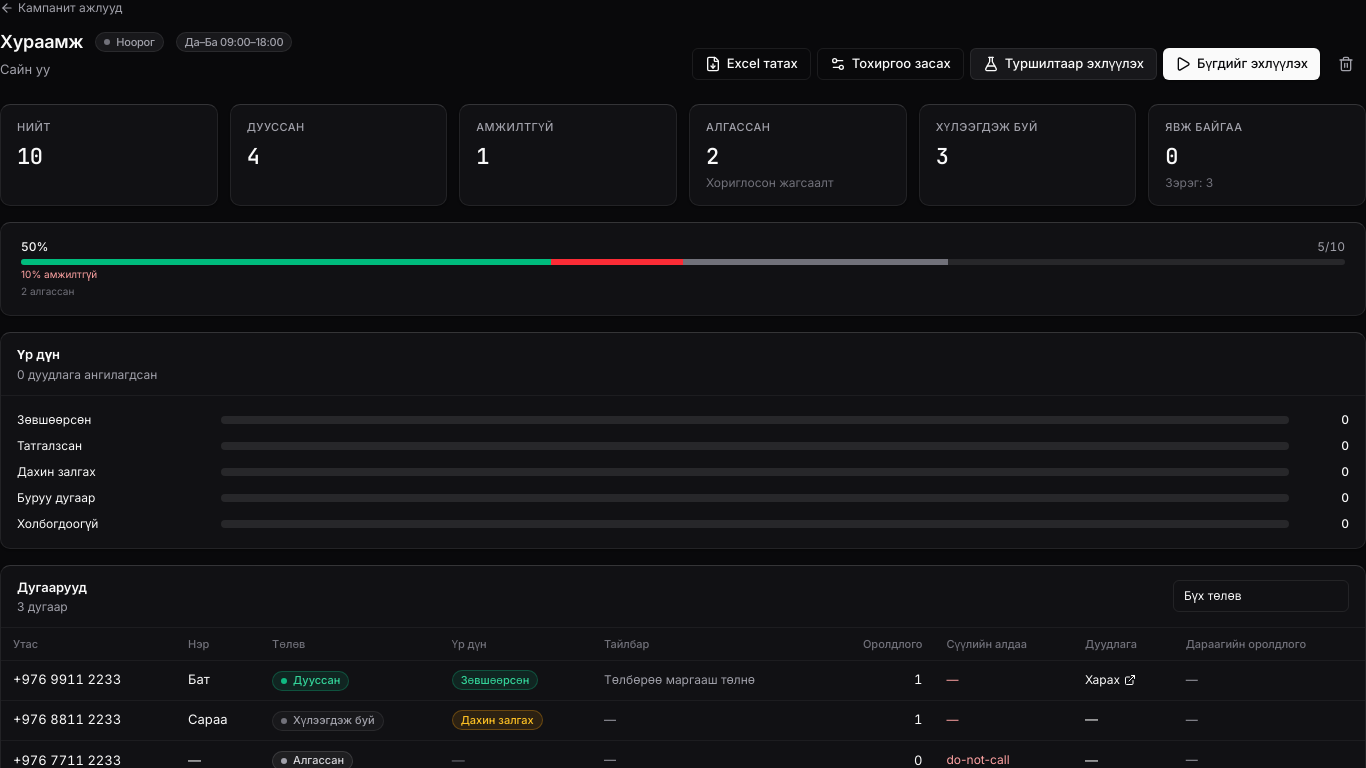
it: CampaignDetailPage v2 › dry-run dialog posts {dryRunLimit: N} to start
Click the button "Туршилтаар эхлүүлэх".
click(1063, 64)  # box [970,48,1157,80]
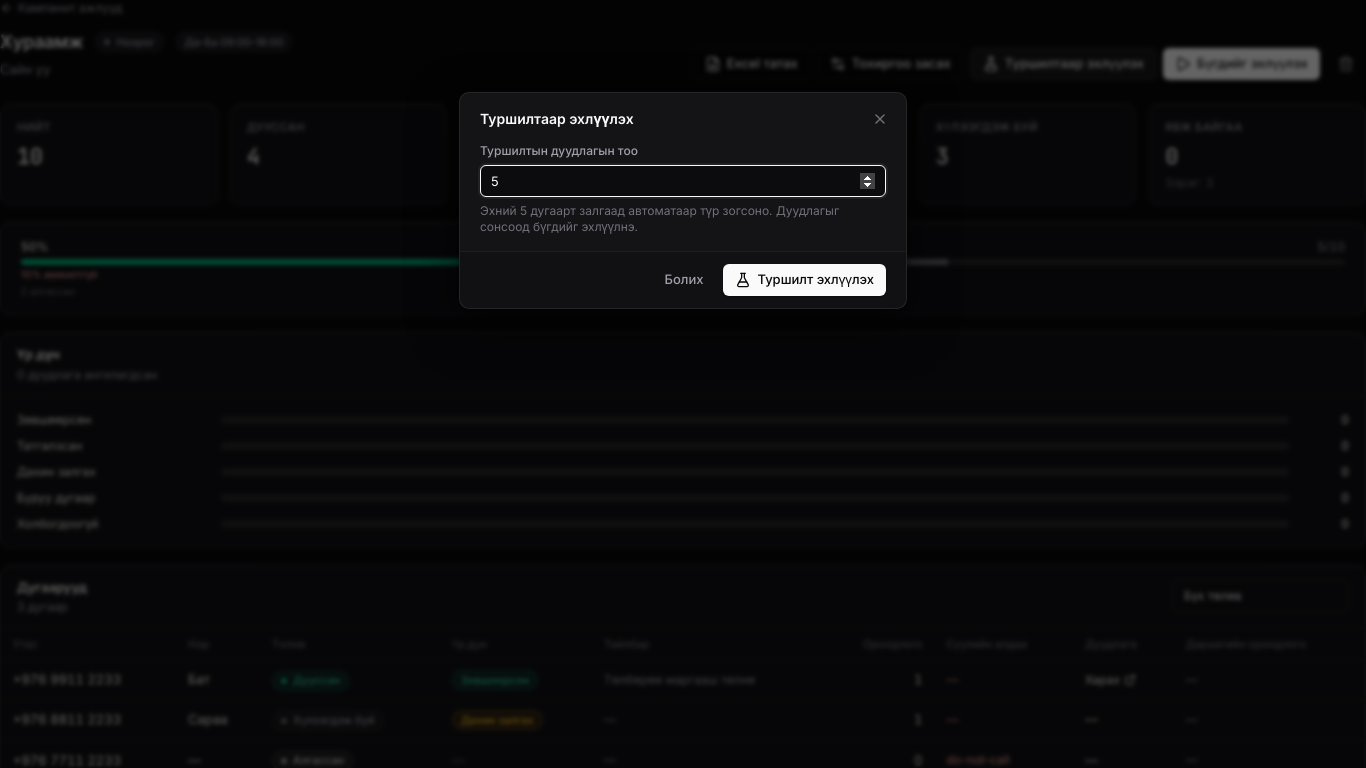
Replace the text in the number field with "7" at (683, 181), box [480,165,886,197]
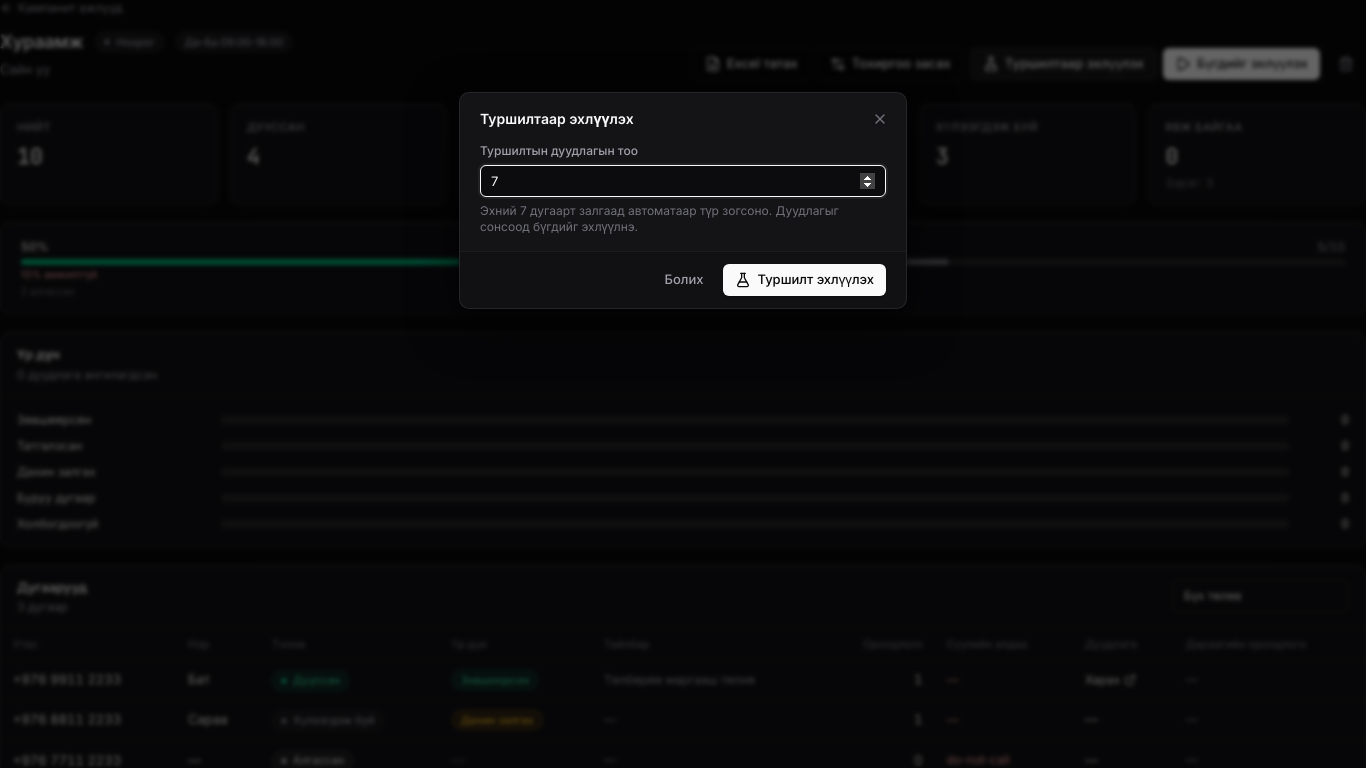
Expected: the text "Эхний 7 дугаарт залгаад автоматаар түр зогсоно" is shown, [480,203,839,234]
Click the button "Туршилт эхлүүлэх".
click(805, 280)  # box [724,264,886,296]
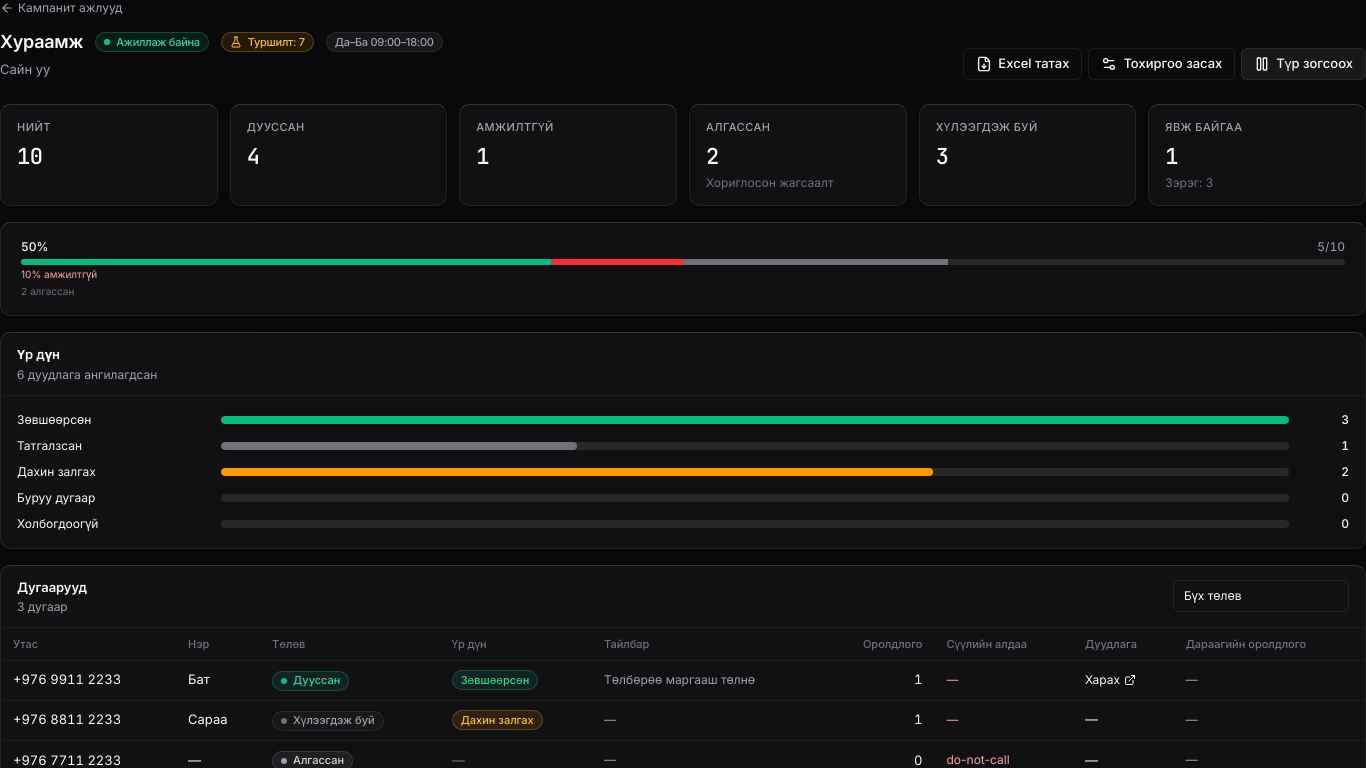
Expected: the button "Туршилтаар эхлүүлэх" is gone
